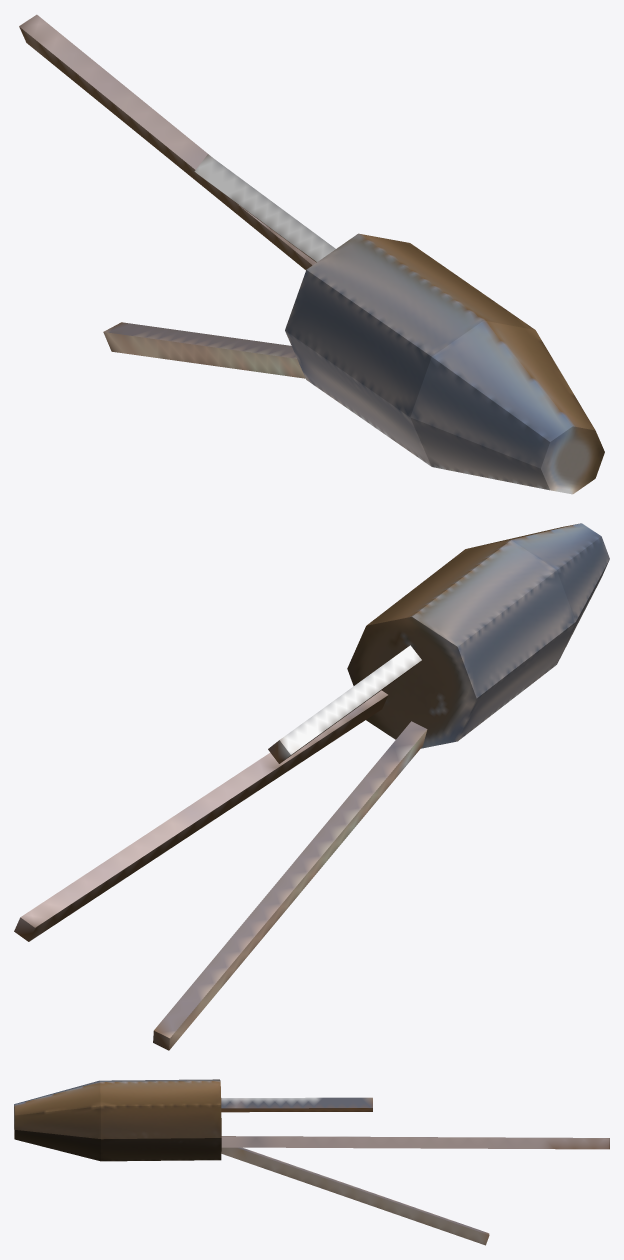
3 views of the same model, one above another, from view 1: azimuth 30°, elevation 25°; view 2: azimuth 150°, elevation 25°; view 3: azimuth 270°, elevation 25° (orthographic). The views are drawn at different scales.
Parts seen in each view (by area): view 1: Bala_Cylinder.003, Estela_1_Cube.006, Estela_3_Cube.008, Estela_2_Cube.007; view 2: Bala_Cylinder.003, Estela_3_Cube.008, Estela_1_Cube.006, Estela_2_Cube.007; view 3: Bala_Cylinder.003, Estela_1_Cube.006, Estela_3_Cube.008, Estela_2_Cube.007.
Boxes of the visible parts, x1=… form: Bala_Cylinder.003: x1=285, y1=233, x2=604, y2=494; Estela_1_Cube.006: x1=19, y1=14, x2=316, y2=269; Estela_3_Cube.008: x1=103, y1=322, x2=305, y2=378; Estela_2_Cube.007: x1=194, y1=154, x2=335, y2=262; Bala_Cylinder.003: x1=347, y1=523, x2=609, y2=748; Estela_3_Cube.008: x1=153, y1=721, x2=427, y2=1050; Estela_1_Cube.006: x1=14, y1=690, x2=388, y2=941; Estela_2_Cube.007: x1=268, y1=645, x2=421, y2=763; Bala_Cylinder.003: x1=14, y1=1079, x2=221, y2=1161; Estela_1_Cube.006: x1=221, y1=1136, x2=609, y2=1149; Estela_3_Cube.008: x1=221, y1=1147, x2=489, y2=1245; Estela_2_Cube.007: x1=221, y1=1097, x2=372, y2=1112.
Size of what is drawn, in the model's own units: 0.2897 by 0.5696 by 1.94.
